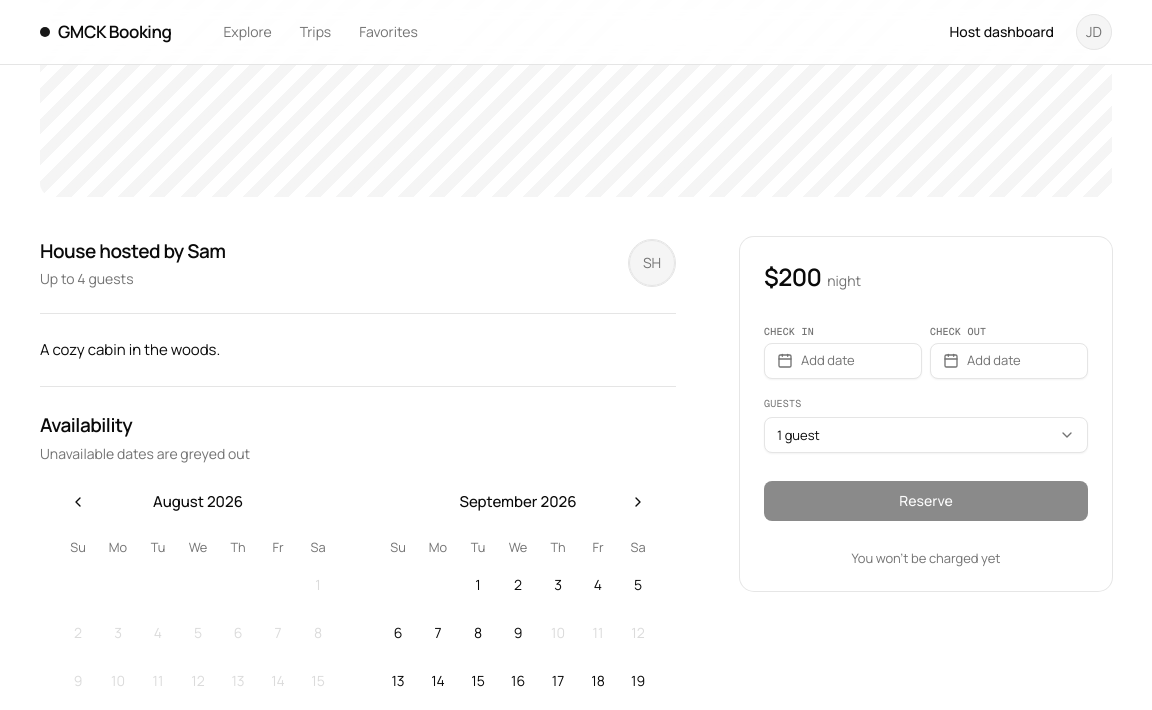
Scenario: PropertyDetailView reserve card blocked dates › disables booked nights in the check-in picker but leaves the checkout day free
(page scrolled)
Click the button with aria-label "Check in, Add date" at (843, 360), box [764,342,922,378]
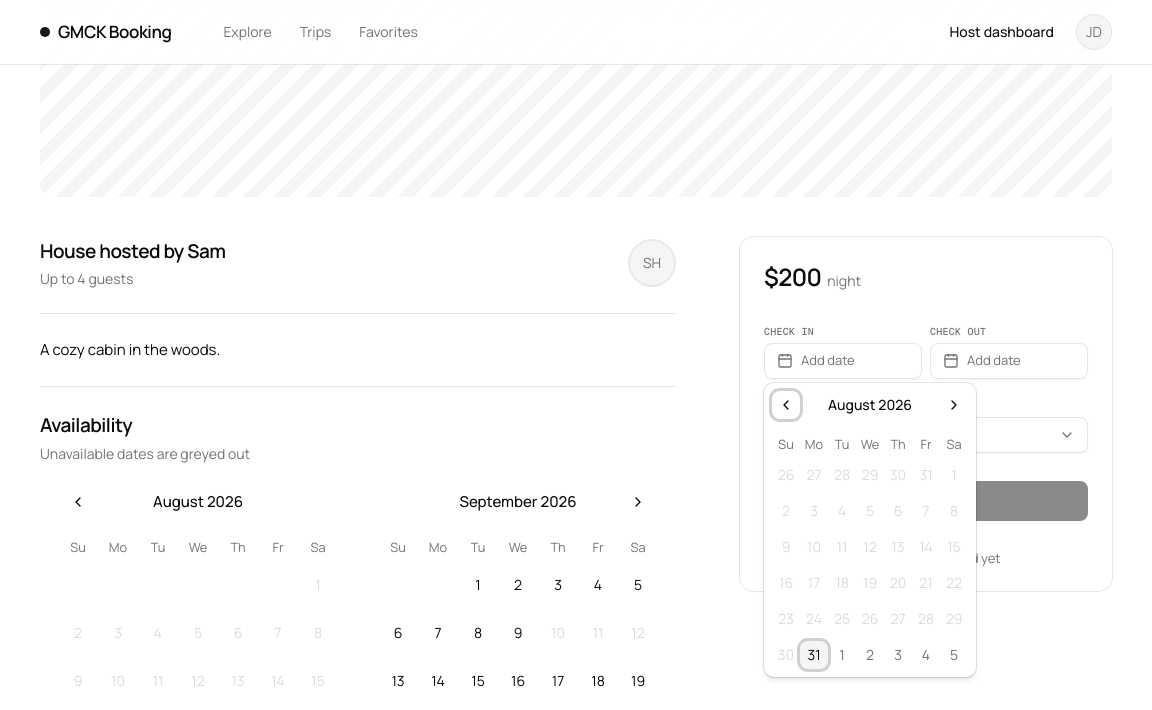
Click the 1st button named "Go to the Next Month" at (954, 405), box [940,391,968,419]
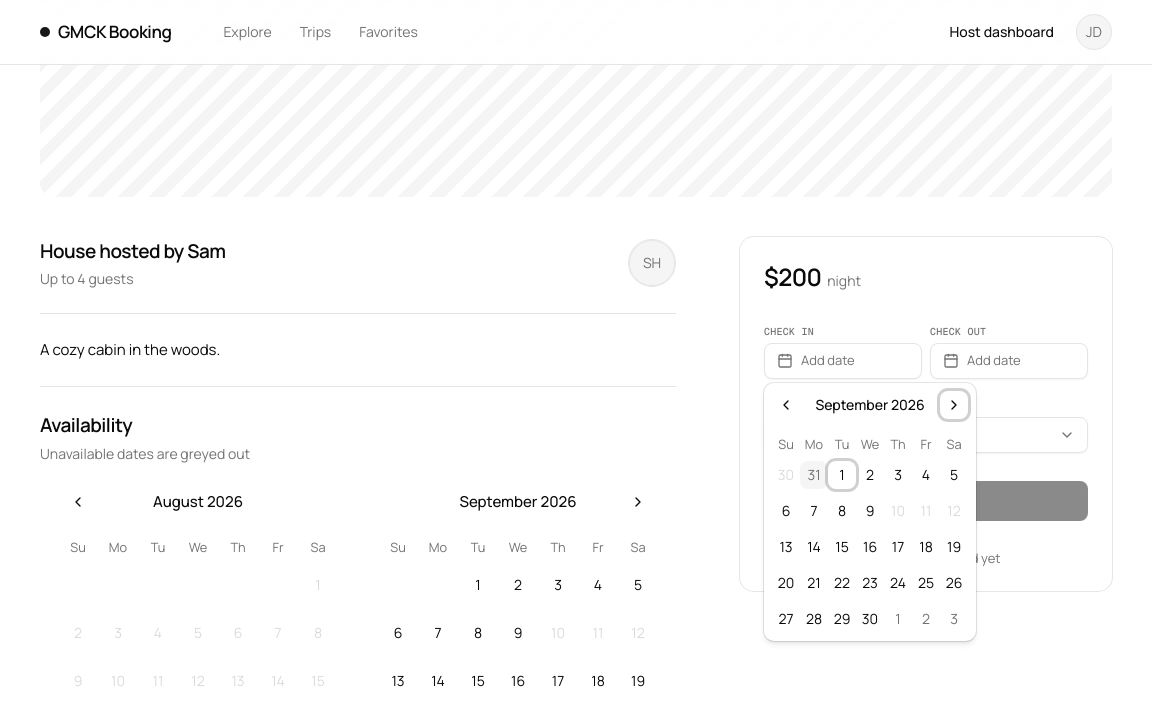
Expected: the 1st button "11" is disabled, [912,497,940,525]
Expected: the 1st button "13" is enabled, [772,533,800,561]
